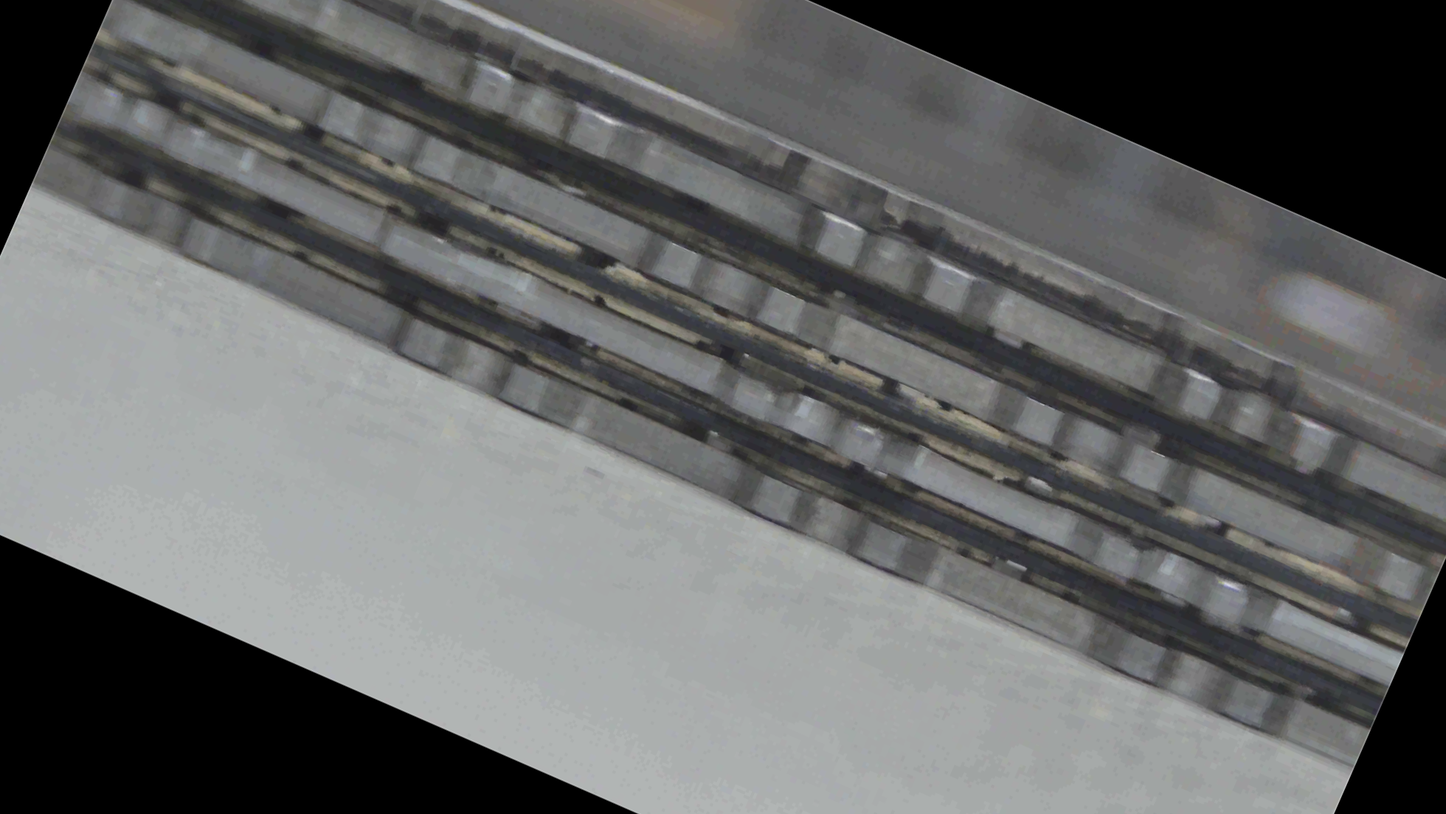Black metal plate: (33, 149, 1368, 764), (4, 135, 1443, 187)
shiney metal plate: (0, 175, 1418, 413), (2, 324, 1446, 433), (0, 181, 1445, 234)
spacer: (0, 20, 1363, 477), (0, 404, 1445, 437), (2, 462, 1445, 488)
